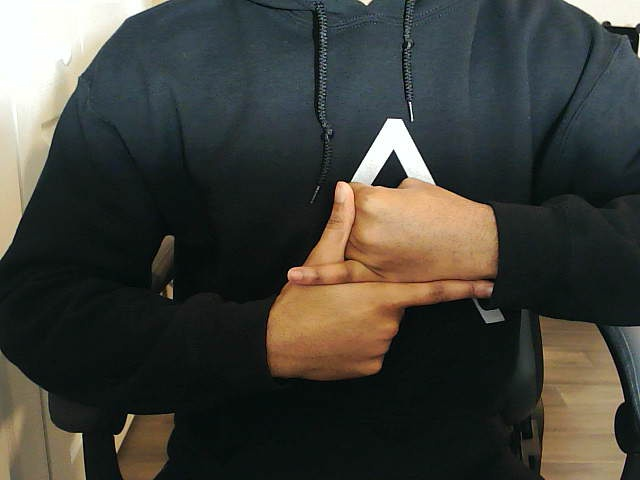Hare: (269, 178, 492, 384)
